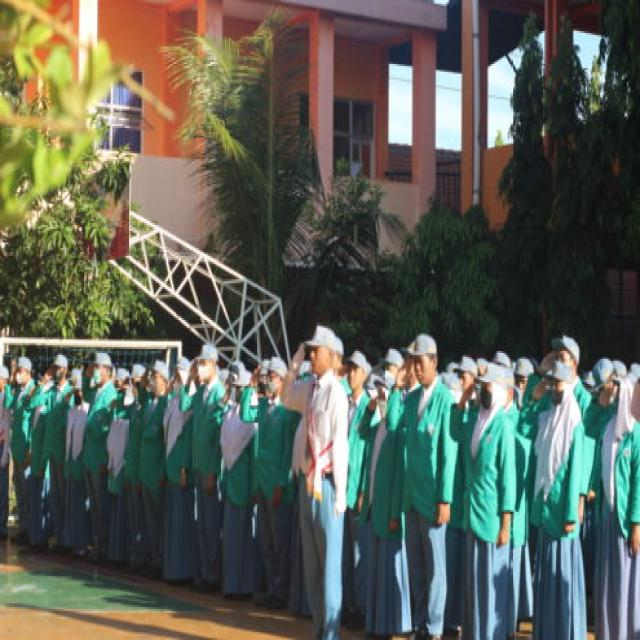peserta: (290, 316, 355, 640), (454, 340, 527, 628), (397, 322, 456, 639), (536, 347, 590, 635), (365, 374, 411, 628), (612, 368, 640, 622), (196, 330, 222, 589), (260, 361, 288, 579), (342, 358, 364, 635), (139, 362, 168, 564), (110, 344, 136, 567), (12, 356, 41, 542), (90, 307, 113, 540), (226, 358, 249, 577), (28, 326, 49, 540), (49, 332, 72, 522), (171, 360, 191, 577), (68, 364, 86, 543), (128, 335, 138, 539)
